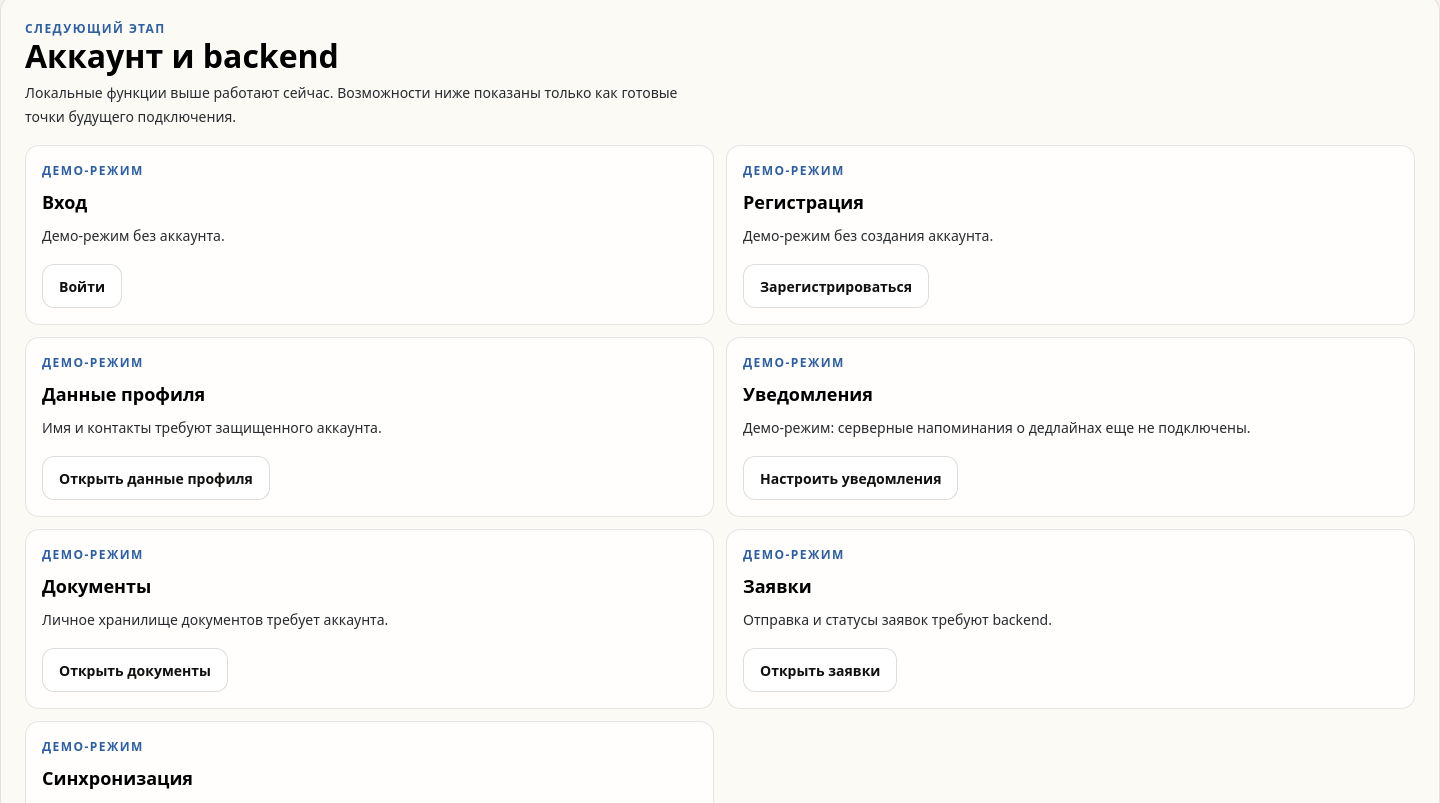
ProfileBackendPanel › shows seven profile capabilities as demo states and announces the selected one
The width and height of the screenshot is (1440, 803).
Expected: the button "Открыть данные профиля" is shown, [42,456,270,500]
Click the button "Открыть заявки" at point(820, 670), box [743,648,897,692]
(page scrolled)
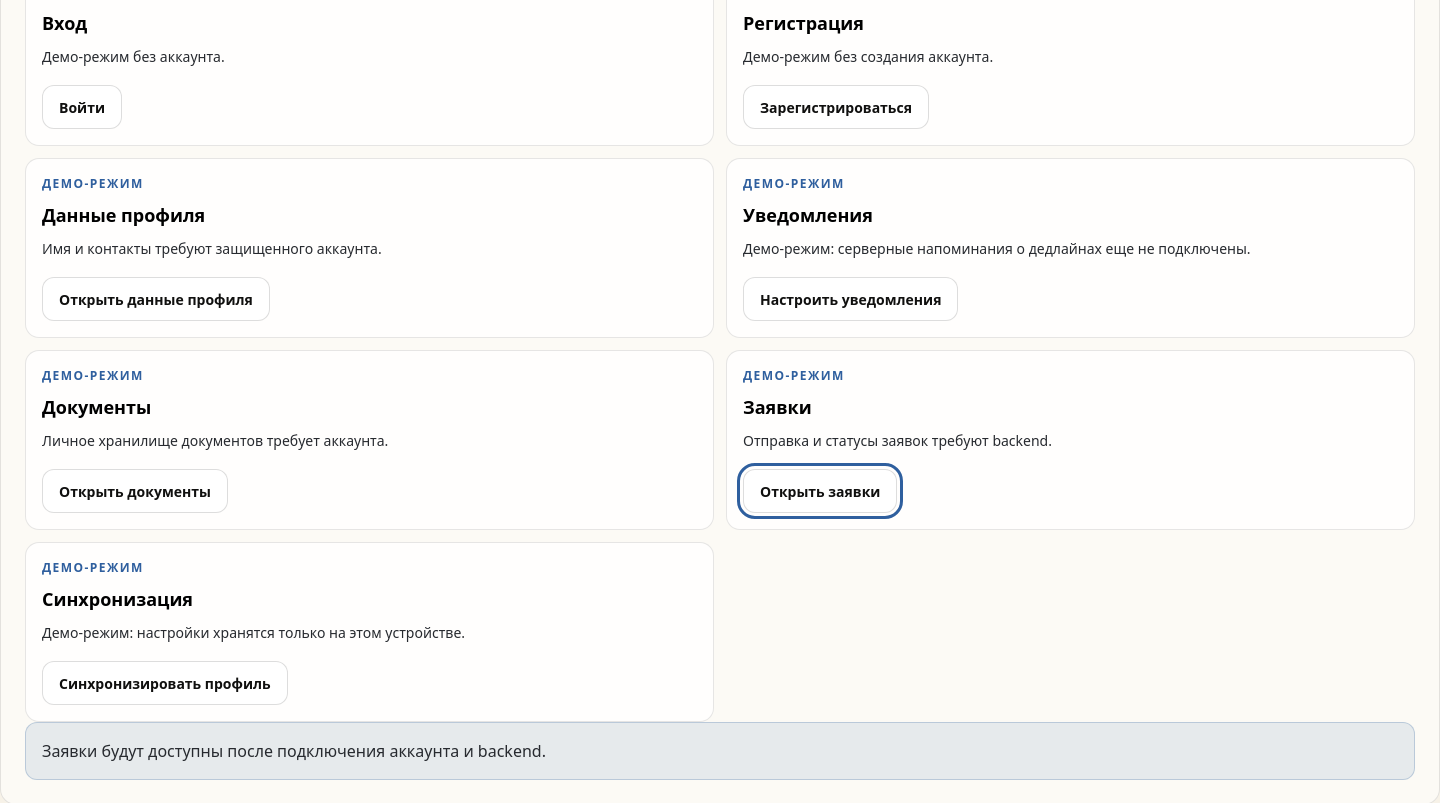
Result: the message reads "Заявки будут доступны после подключения аккаунта и backend." at [42,740,546,762]
